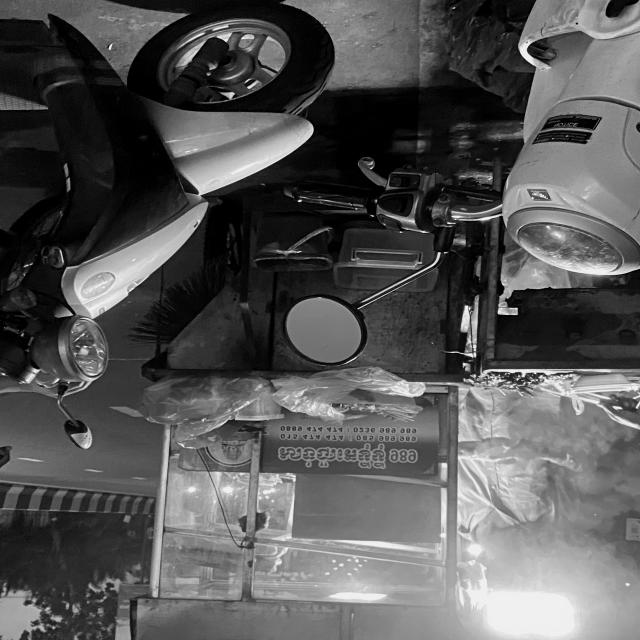295: (279, 433, 420, 444)
422: (278, 424, 420, 436)
887: (387, 446, 419, 466)
Yolov11_80vkh: (275, 441, 389, 470)
